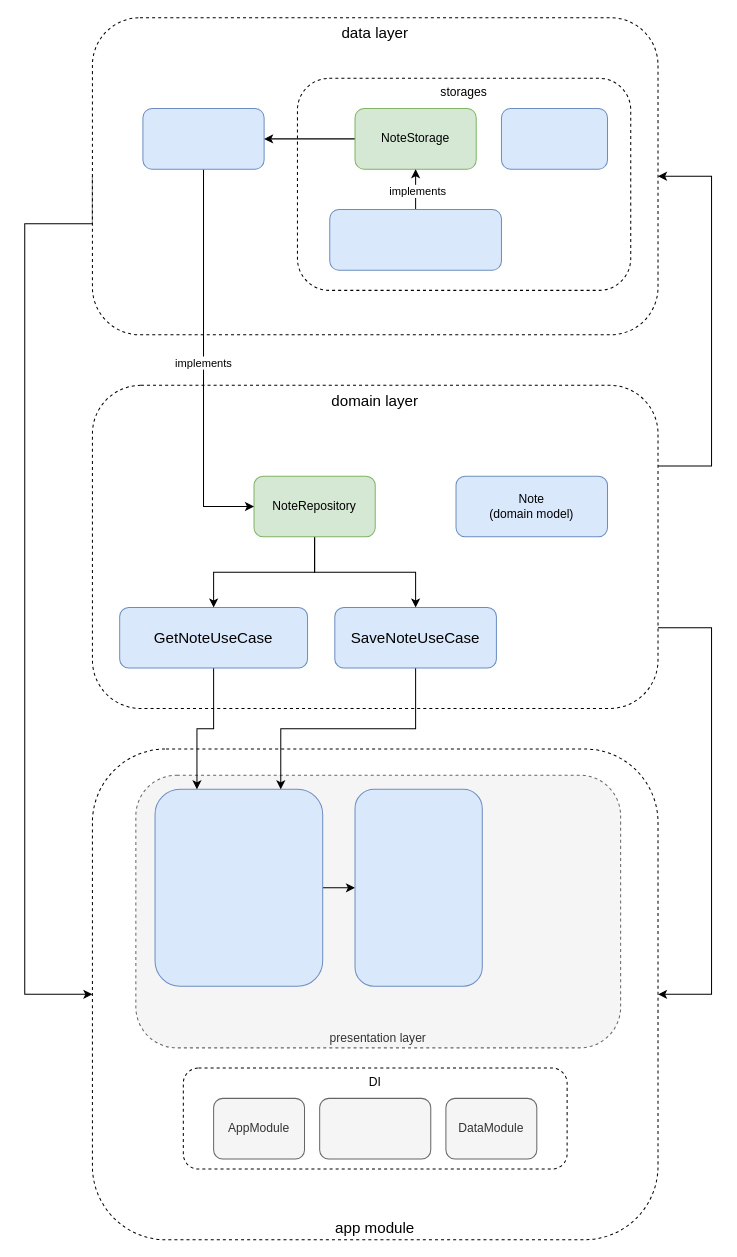
This 737x1257 diagram has some shape labels left out. The shapes that lost their labels are listed below. From the top down, each one's centre as x and y in pixels, then its label:
point (203, 138): NoteRepositoryImpl
point (554, 138): Note (storage model)
point (415, 239): SharedPrefNoteStorage
point (238, 887): MainViewModel
point (418, 887): MainActivity
point (375, 1128): DomainModule
